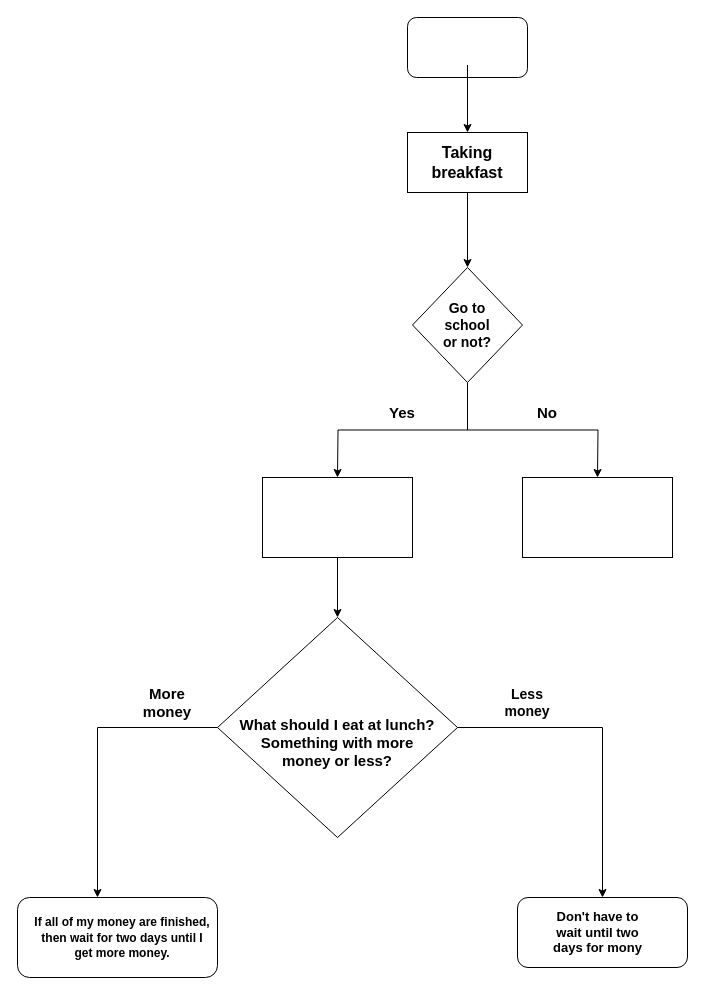
This 705x995 diagram has some shape labels left out. Here are the shapes that lost their labels. From the top down, the box of each, then its label:
(406, 16, 528, 78): Walking up in morning
(262, 476, 412, 558): Getting prepared for school with proper uniform.
(522, 476, 672, 558): Studying properly at home
